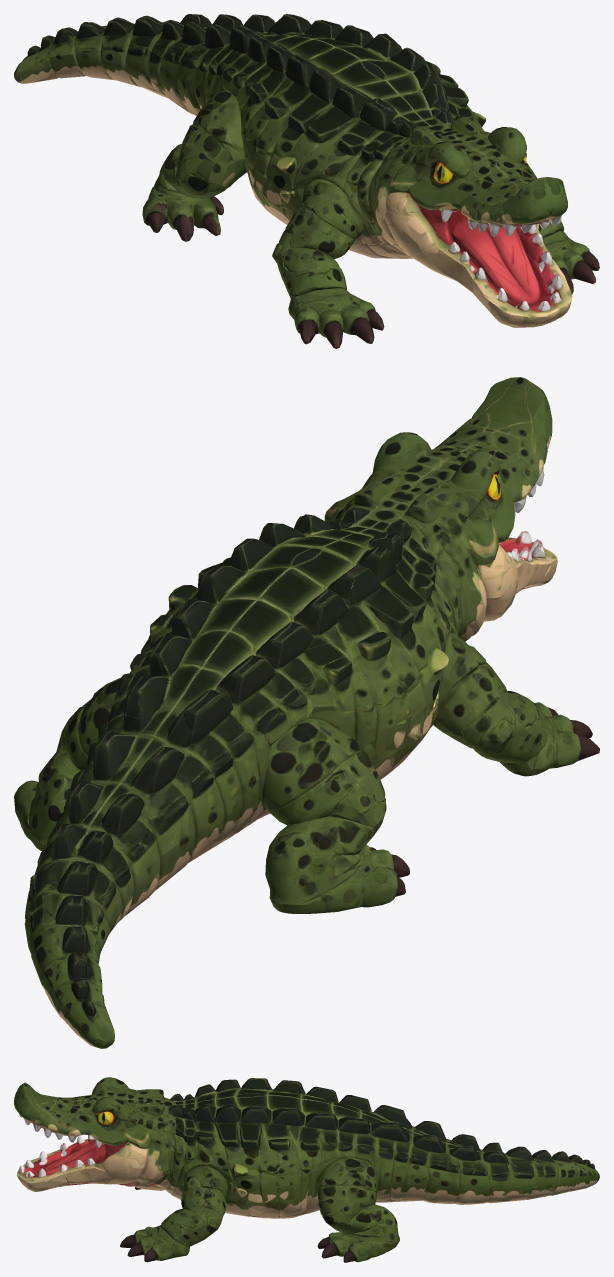
File: crocodile.glb
3 views of the same model, one above another, from view 1: azimuth 30°, elevation 25°; view 2: azimuth 150°, elevation 25°; view 3: azimuth 270°, elevation 25° (orthographic). The views are drawn at different scales.
Size of the model in its own units: 0.7543 by 0.469 by 1.9.
Materials: 1 (1 with a texture image).
